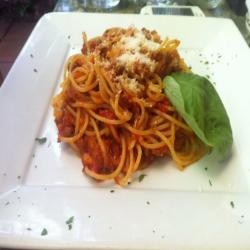bolonese_pasta: (57, 28, 217, 189)
